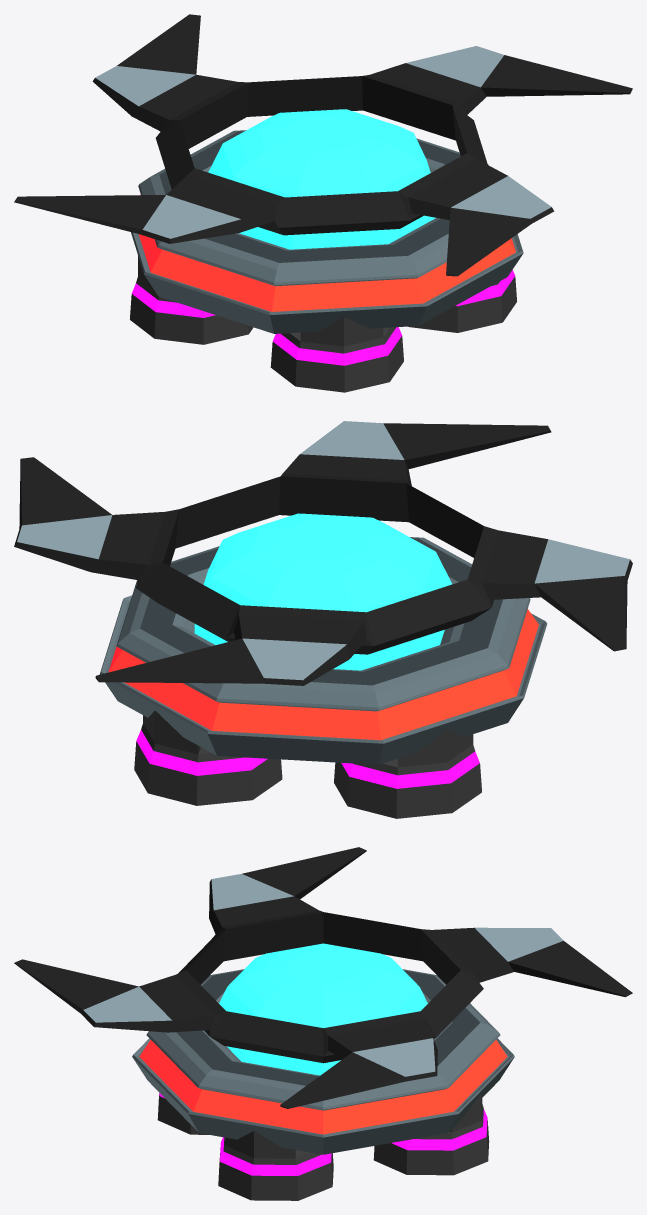
Rendered from flying_saucer.glb.
3 renders of one model, top to bottom at view 1: azimuth 30°, elevation 25°; view 2: azimuth 150°, elevation 25°; view 3: azimuth 270°, elevation 25°, orthographic. The views are drawn at different scales.
Parts seen in each view (by area): view 1: Cube.002, Cube.001; view 2: Cube.002, Cube.001; view 3: Cube.002, Cube.001.
Boxes of the visible parts, bbox=[...] form: Cube.002: bbox=[130, 109, 523, 392]; Cube.001: bbox=[14, 14, 632, 276]; Cube.002: bbox=[99, 513, 547, 818]; Cube.001: bbox=[14, 421, 632, 685]; Cube.002: bbox=[132, 943, 514, 1200]; Cube.001: bbox=[14, 847, 632, 1108].
Bounding box in the file's own units: 4.25 × 1.24 × 4.25.
5 materials, 1 textured.
